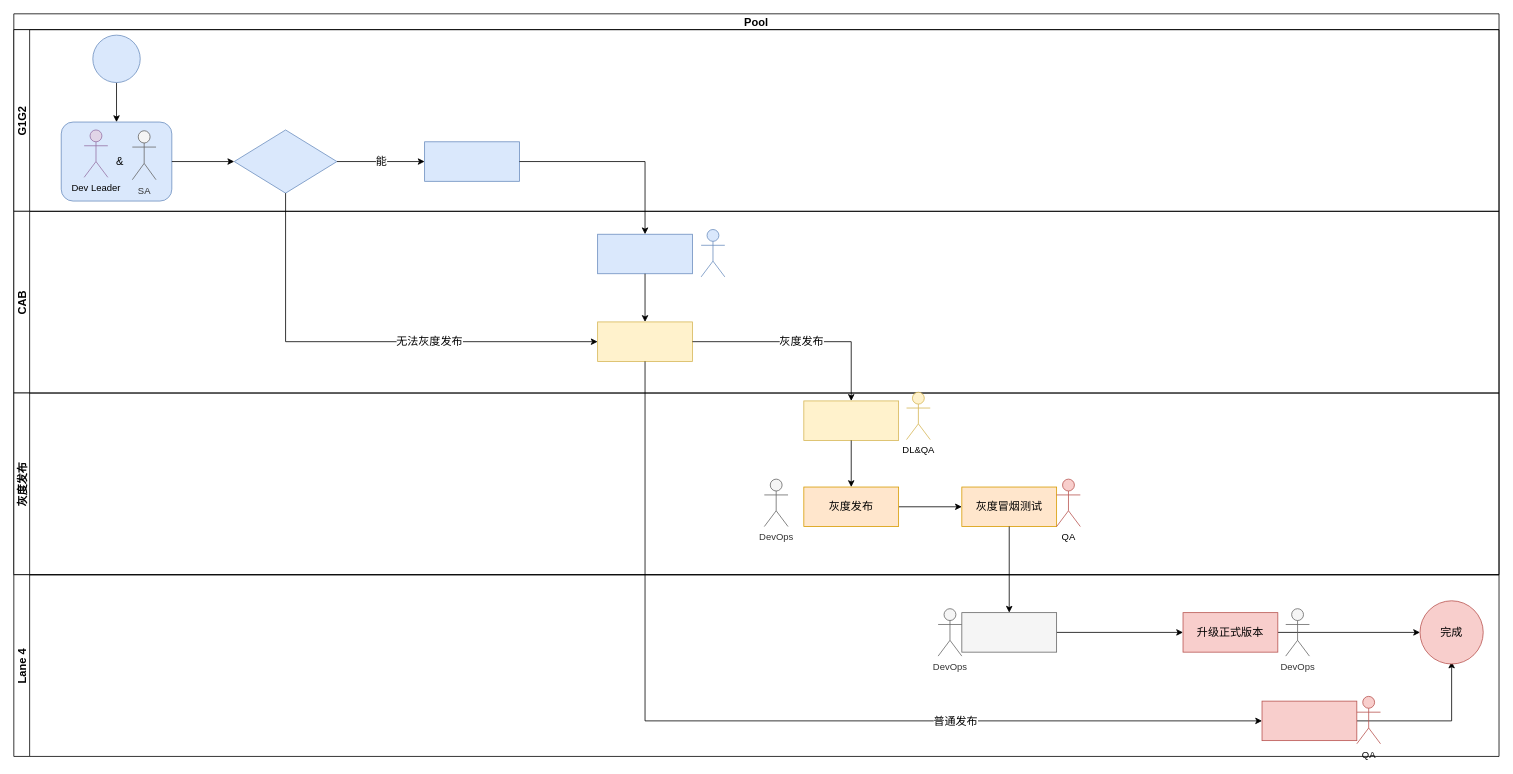
Some shapes in this 1513 by 774 pixel diagram are drawn without their labels. The box of each missing label's shape, as (x1, y1, x2, y2) in pixels:
CAB声明发布方式 灰度发布: (597, 233, 692, 274)
CAB审核声明发布方式: (597, 321, 692, 361)
SM&PM: (700, 229, 725, 277)
准备灰度行事历: (424, 141, 519, 181)
开始: (92, 34, 140, 83)
提交灰度行事历: (803, 400, 899, 440)
灰度度量: (233, 129, 337, 193)
灰度策略下线: (961, 612, 1057, 652)
生产冒烟测试: (1261, 700, 1357, 741)
